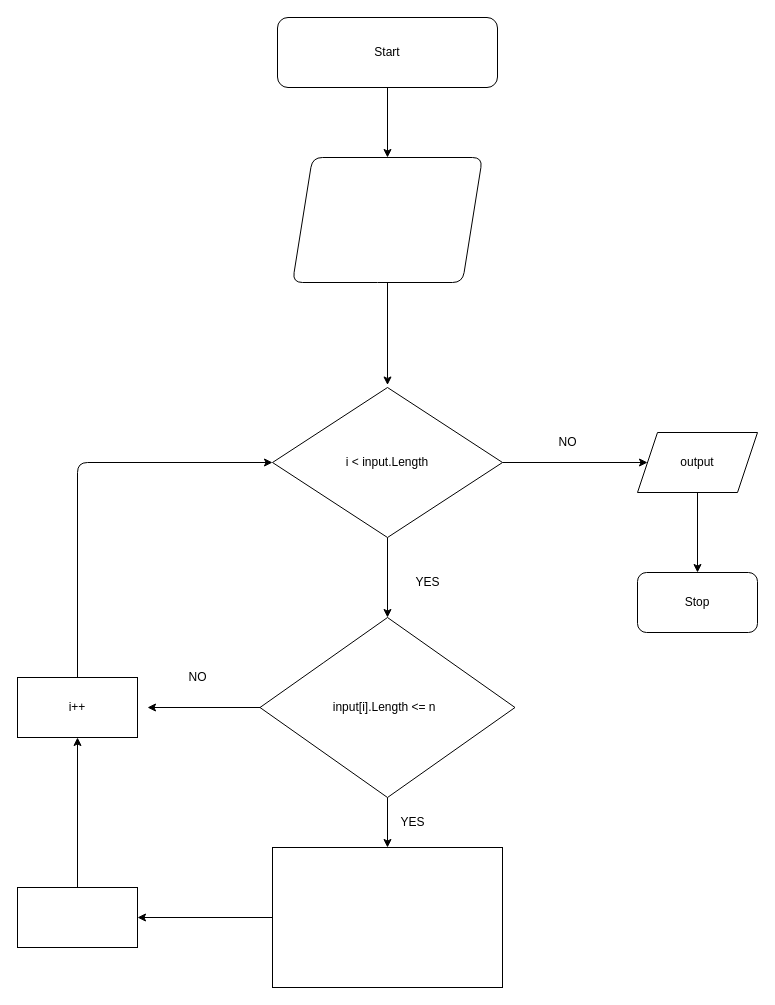
The diagram is 775 pixels wide and 1005 high, and some of its shapes have lost their labels. Here are the shapes that lost their labels. From the top down, the box of each, then its label:
(292, 156, 482, 282): String [] Input, String [] output, int a = 0, int j = 0, int n = 3
(16, 886, 138, 948): j++
(272, 846, 502, 988): output [j] = input [i]
